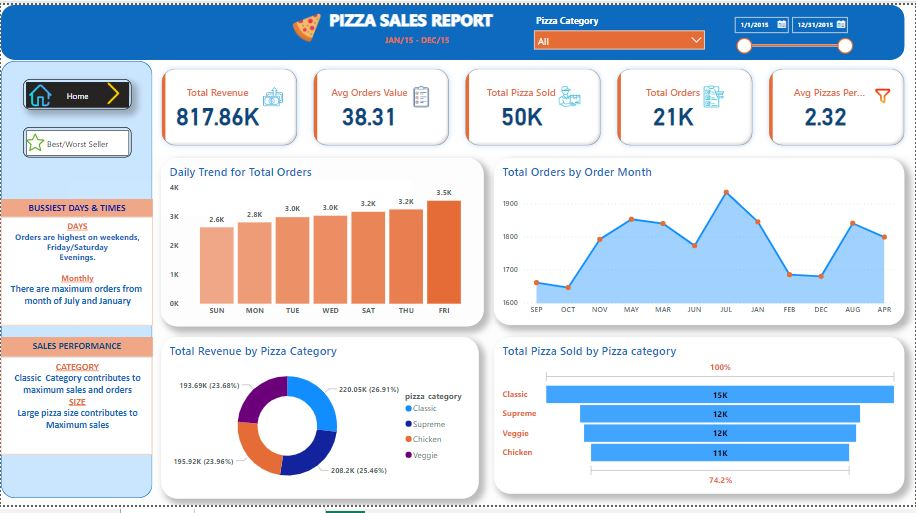

The page's visual inventory and layout, read from the dashboard file:
{"tool":"powerbi","page":{"name":"Home","canvas":[1500,820],"ordinal":0},"visuals":[{"type":"cardVisual","fields":{"Data":["pizza_sales.Total_Revenue","pizza_sales.Average Orders Value","pizza_sales.Total Pizza Sold","pizza_sales.Total Orders","pizza_sales.Avg Pizzas Per Order"]},"box":[248.3,88.3,1251.7,158.3],"z":0},{"type":"shape","box":[0,0,1481.7,90],"z":1000},{"type":"textbox","box":[111.3,287.2,561.6,59.7],"z":2000},{"type":"textbox","box":[367.9,0,610,59.7],"z":3000},{"type":"textbox","box":[613.2,42,137.2,48.4],"z":4000},{"type":"image","box":[343.7,8.1,313.1,58.1],"z":5000},{"type":"shape","box":[0,91.7,248.3,716.7],"z":6000},{"type":"columnChart","title":"Daily Trend for Total Orders","fields":{"Category":["pizza_sales.Ordered Days"],"Y":["pizza_sales.Total Orders"]},"box":[263,250.1,529.3,275.9],"z":7000},{"type":"areaChart","fields":{"Category":["pizza_sales.Order Month"],"Y":["pizza_sales.Total Orders"]},"box":[808.5,250.1,672.9,274.3],"z":8000},{"type":"donutChart","title":"Total Revenue by Pizza Category","fields":{"Category":["pizza_sales.pizza_category"],"Y":["pizza_sales.Total Revenue"]},"box":[263,543.8,521.2,264.6],"z":9000},{"type":"textbox","box":[0,317.9,248.5,29],"z":10000},{"type":"funnel","title":"Total Pizza Sold by Pizza category","fields":{"Category":["pizza_sales.pizza_category"],"Y":["pizza_sales.Total Pizza Sold"]},"box":[808.5,543.8,672.9,256.6],"z":11000},{"type":"textbox","box":[0,346.9,248.5,177.5],"z":12000},{"type":"textbox","box":[0,543.8,248.5,32.3],"z":13000},{"type":"textbox","box":[0,576.7,248.3,160],"z":14000},{"type":"slicer","fields":{"Values":["pizza_sales.pizza_category"]},"box":[864.9,9.7,300.1,82.3],"z":15000},{"type":"slicer","fields":{"Values":["pizza_sales.order_date"]},"box":[1190,10,215,83.3],"z":16000},{"type":"pageNavigator","box":[35.5,121,177.5,50],"z":17000},{"type":"pageNavigator","box":[35.5,200.1,177.5,50],"z":18000},{"type":"image","box":[156.5,121,56.5,46.8],"z":19000},{"type":"image","box":[35.5,124.3,56.5,46.8],"z":20000},{"type":"image","box":[35.5,200.1,40.3,50],"z":21000}]}

Visuals, with their boxes in screenshot pixels (x1, y1, x2, y2), scaled from the page's 1500x820 canvas onto the 916x513 screenshot:
cardVisual - pizza_sales.Total_Revenue x pizza_sales.Average Orders Value: detection(152, 55, 915, 154)
shape: detection(0, 0, 905, 56)
textbox: detection(68, 180, 411, 217)
textbox: detection(225, 0, 597, 37)
textbox: detection(374, 26, 458, 57)
image: detection(210, 5, 401, 41)
shape: detection(0, 57, 152, 506)
"Daily Trend for Total Orders" columnChart: detection(161, 156, 484, 329)
areaChart - pizza_sales.Order Month x pizza_sales.Total Orders: detection(494, 156, 905, 328)
"Total Revenue by Pizza Category" donutChart: detection(161, 340, 479, 506)
textbox: detection(0, 199, 152, 217)
"Total Pizza Sold by Pizza category" funnel: detection(494, 340, 905, 501)
textbox: detection(0, 217, 152, 328)
textbox: detection(0, 340, 152, 360)
textbox: detection(0, 361, 152, 461)
slicer - pizza_sales.pizza_category: detection(528, 6, 711, 58)
slicer - pizza_sales.order_date: detection(727, 6, 858, 58)
pageNavigator: detection(22, 76, 130, 107)
pageNavigator: detection(22, 125, 130, 156)
image: detection(96, 76, 130, 105)
image: detection(22, 78, 56, 107)
image: detection(22, 125, 46, 156)
